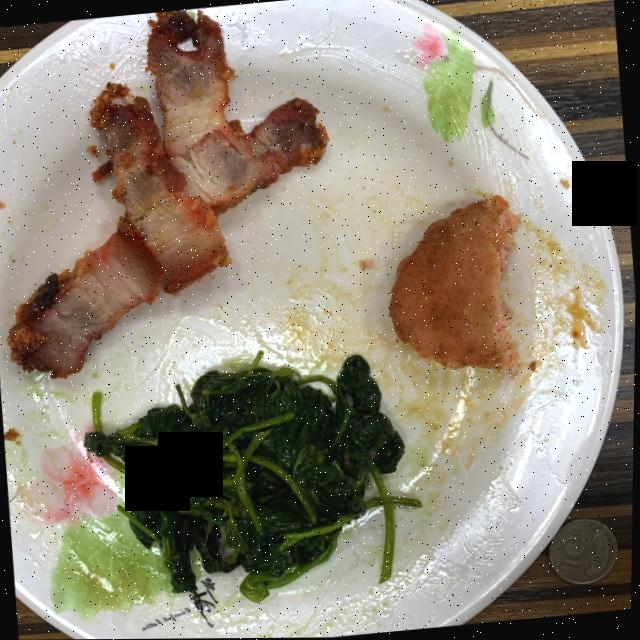Spam: (389, 195, 521, 376)
coin: (549, 520, 618, 585)
red grilled pork: (8, 10, 328, 378)
sweet potato leaves: (84, 352, 422, 602)
